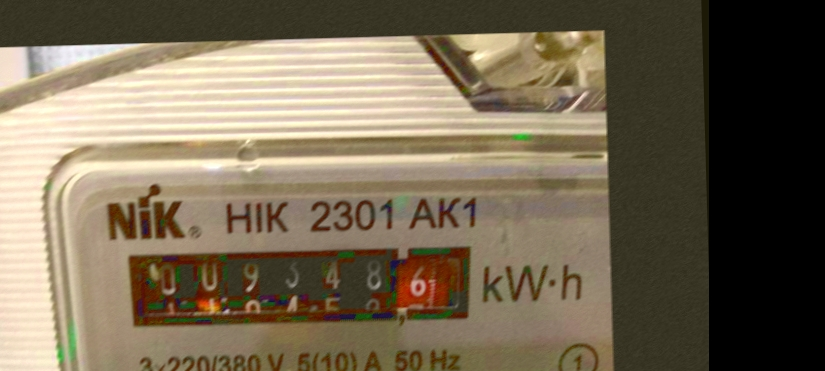0: (200, 260, 222, 297), (159, 264, 180, 299)
3: (282, 259, 305, 292)
4: (322, 258, 344, 296)
6: (409, 266, 432, 300)
8: (365, 259, 386, 293)
9: (243, 260, 262, 295)
screen: (106, 233, 494, 346)
